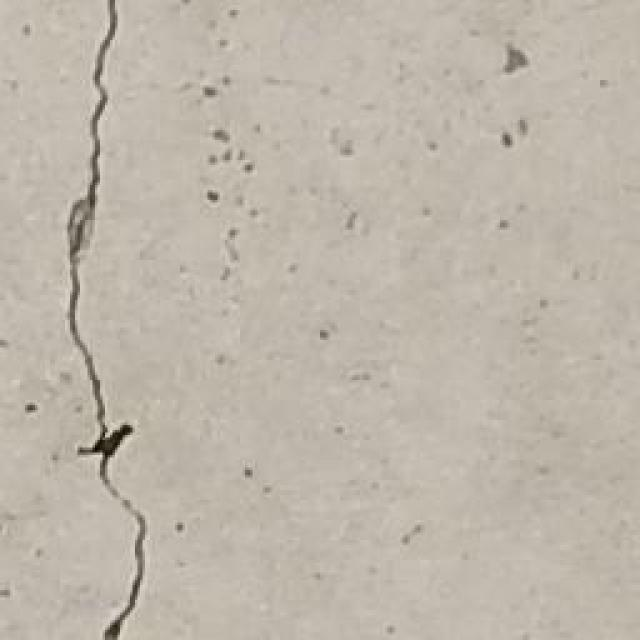concrete-crack: (65, 0, 148, 640)
